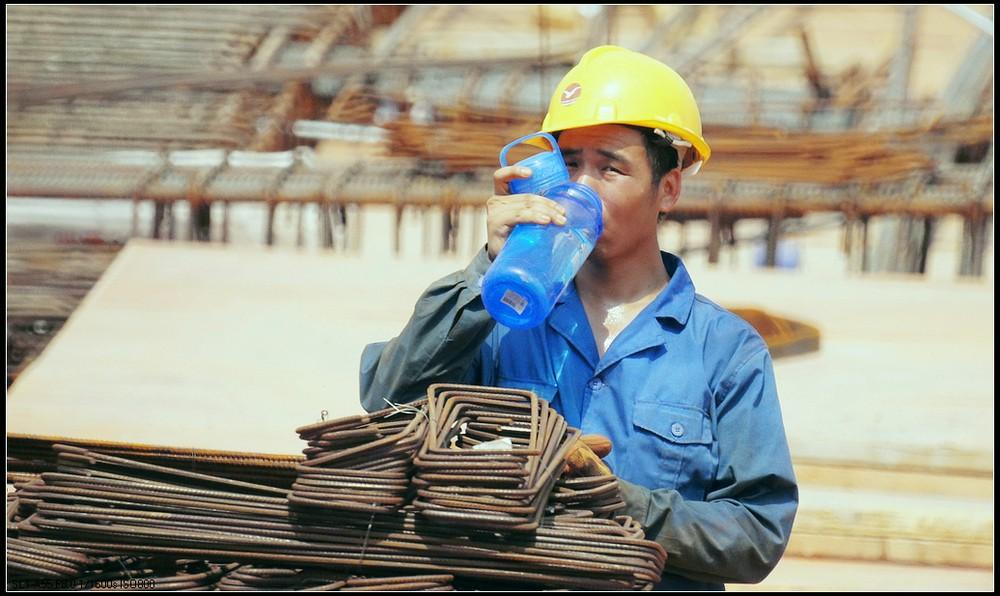helmet: (541, 46, 710, 179)
